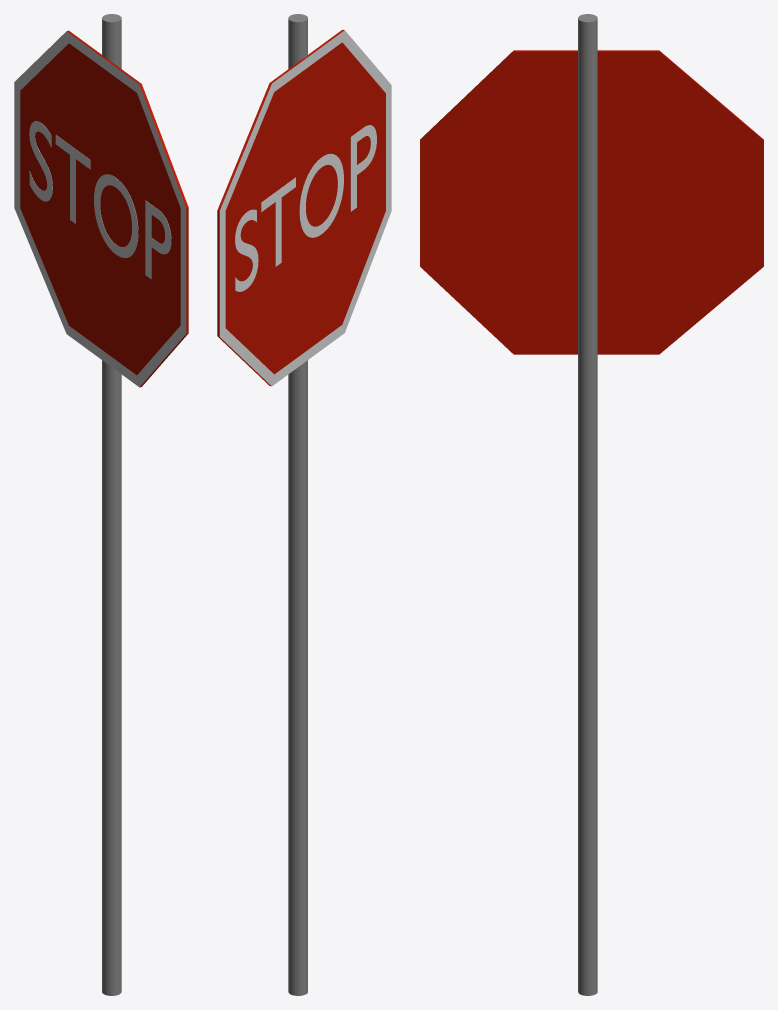
The model's file is StopSign.fbx.
3 views of the same model, side by side, from view 1: azimuth 30°, elevation 25°; view 2: azimuth 150°, elevation 25°; view 3: azimuth 270°, elevation 25° (orthographic).
Visible parts, largest first — view 1: StopSignMain, StopSignPole, STOPText; view 2: StopSignMain, StopSignPole, STOPText; view 3: StopSignMain, StopSignPole.
Part boxes in pixels (x1,y1,x2,y2): StopSignMain: (14,30,188,387); StopSignPole: (102,14,121,995); STOPText: (29,121,171,278); StopSignMain: (217,29,391,386); StopSignPole: (288,14,307,995); STOPText: (235,125,376,291); StopSignMain: (420,50,763,354); StopSignPole: (578,14,597,995).
Size of the model in its own units: 17.37 by 888 by 284.
